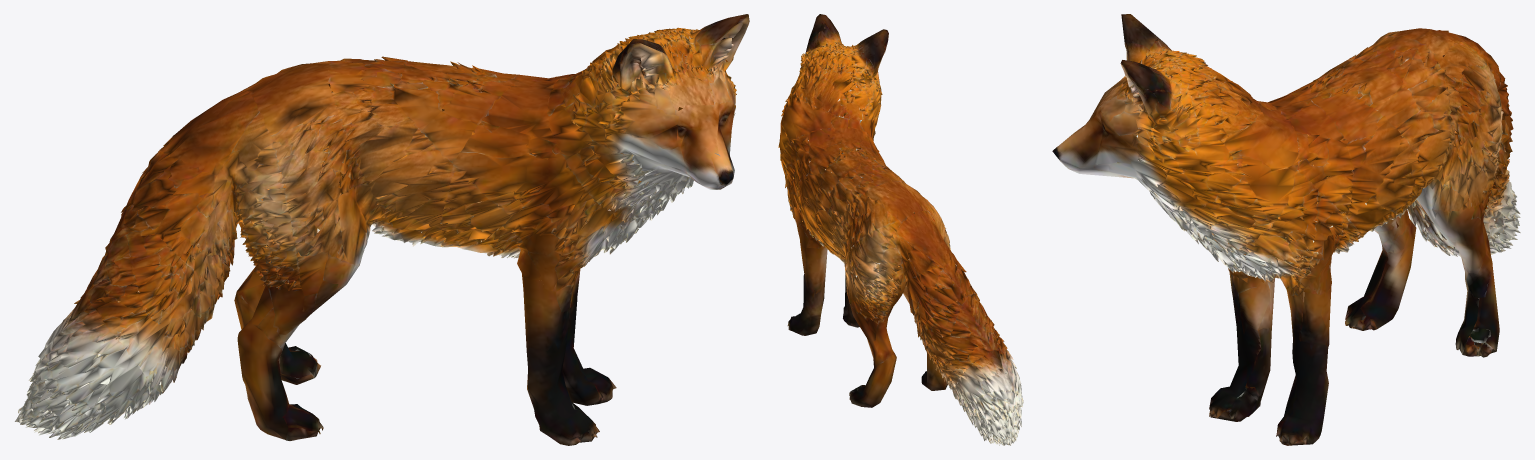
Rendered from fox.glb.
3 renders of one model, left to right at view 1: azimuth 30°, elevation 25°; view 2: azimuth 150°, elevation 25°; view 3: azimuth 270°, elevation 25°, orthographic. The views are drawn at different scales.
Parts seen in each view (by area): view 1: fox; view 2: fox; view 3: fox.
Boxes of the visible parts, box(x1,y1,x2,y2) form: fox: box(15, 14, 749, 445); fox: box(778, 14, 1023, 445); fox: box(1052, 14, 1520, 445).
Bounding box in the file's own units: 0.9994 × 0.789 × 0.8175.
Materials: 1 (1 with a texture image).
